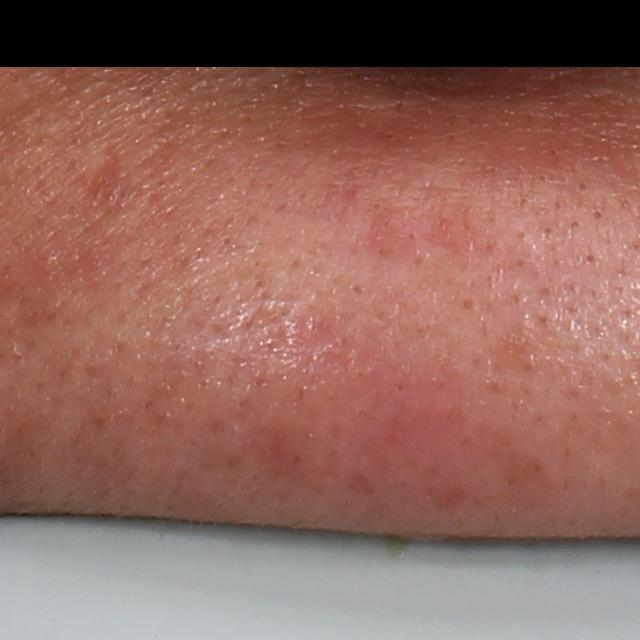comedo: (452, 292, 482, 314), (574, 177, 594, 195), (589, 206, 607, 223)
